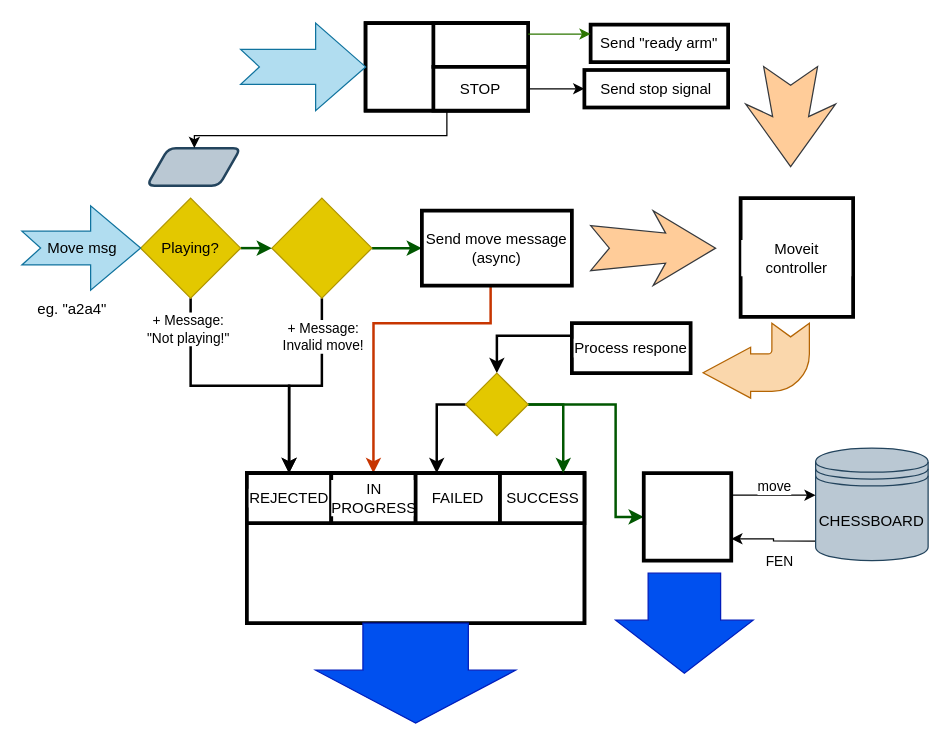
This 950x745 diagram has some shape labels left out. The shapes that lost their labels are listed below. From the top down, each one's box as (x1, y1, x2, y2) in pixels, then its label:
(431, 21, 529, 68): PLAY
(145, 146, 241, 186): State
(271, 197, 372, 298): Valid?
(641, 471, 732, 562): Push move to Board
(244, 471, 586, 624): MOVE STATUS MESSAGE +extra info (is checkmate etc..)
(614, 572, 753, 673): Publish FEN
(314, 622, 516, 723): Publish move status
